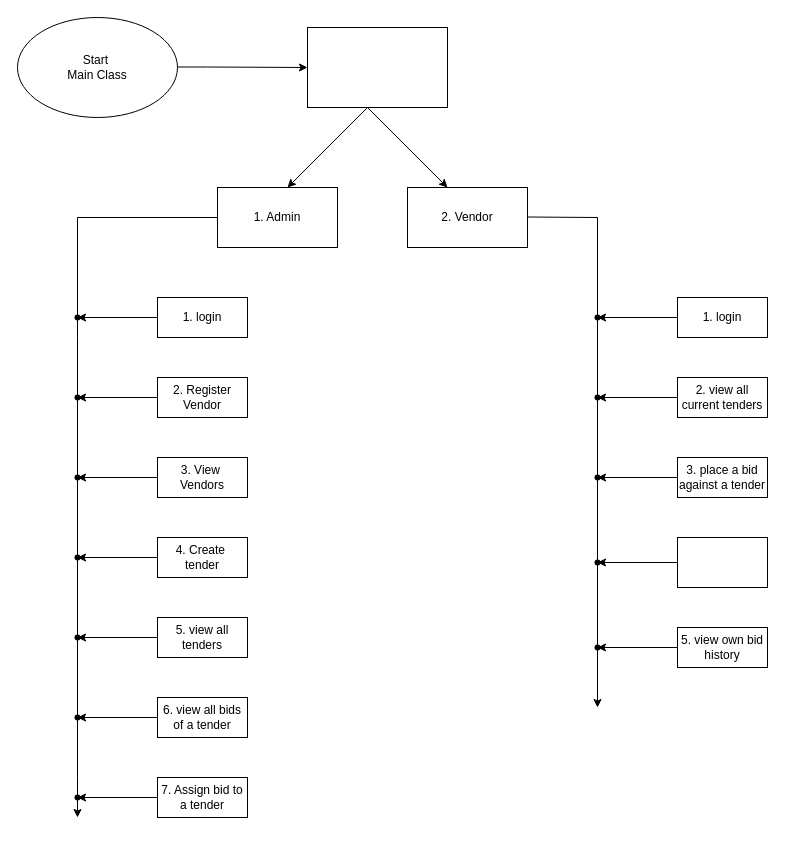
Some shapes in this 785 by 843 pixel diagram are drawn without their labels. Here are the shapes that lost their labels. From the top down, the centre of each, then its label:
At [377,67]: "Select Options Options Class selectOpt method".
At [722,562]: "4. view status of the bid (selected or not)".
